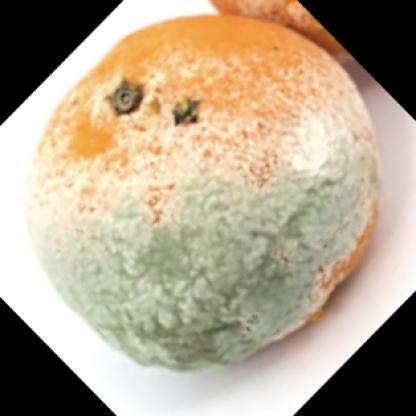rotten: (32, 15, 382, 376)
